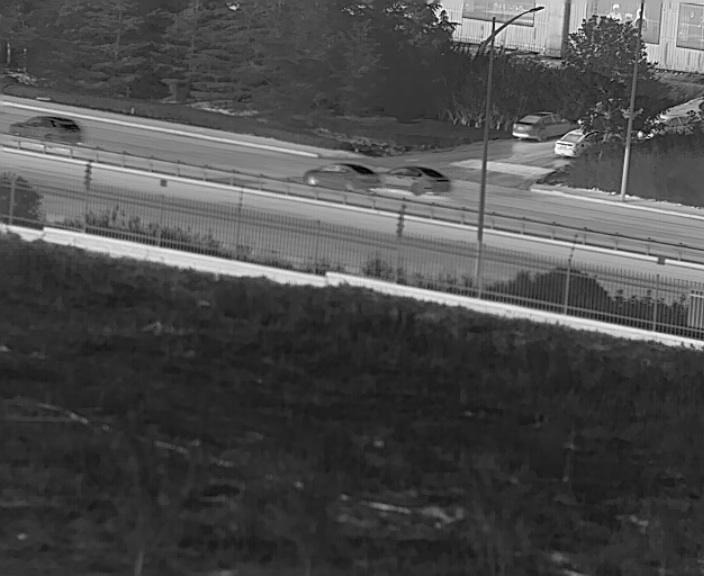vehicle: (504, 103, 571, 144), (3, 110, 77, 142), (554, 119, 611, 158), (301, 159, 381, 186), (379, 162, 448, 192)
